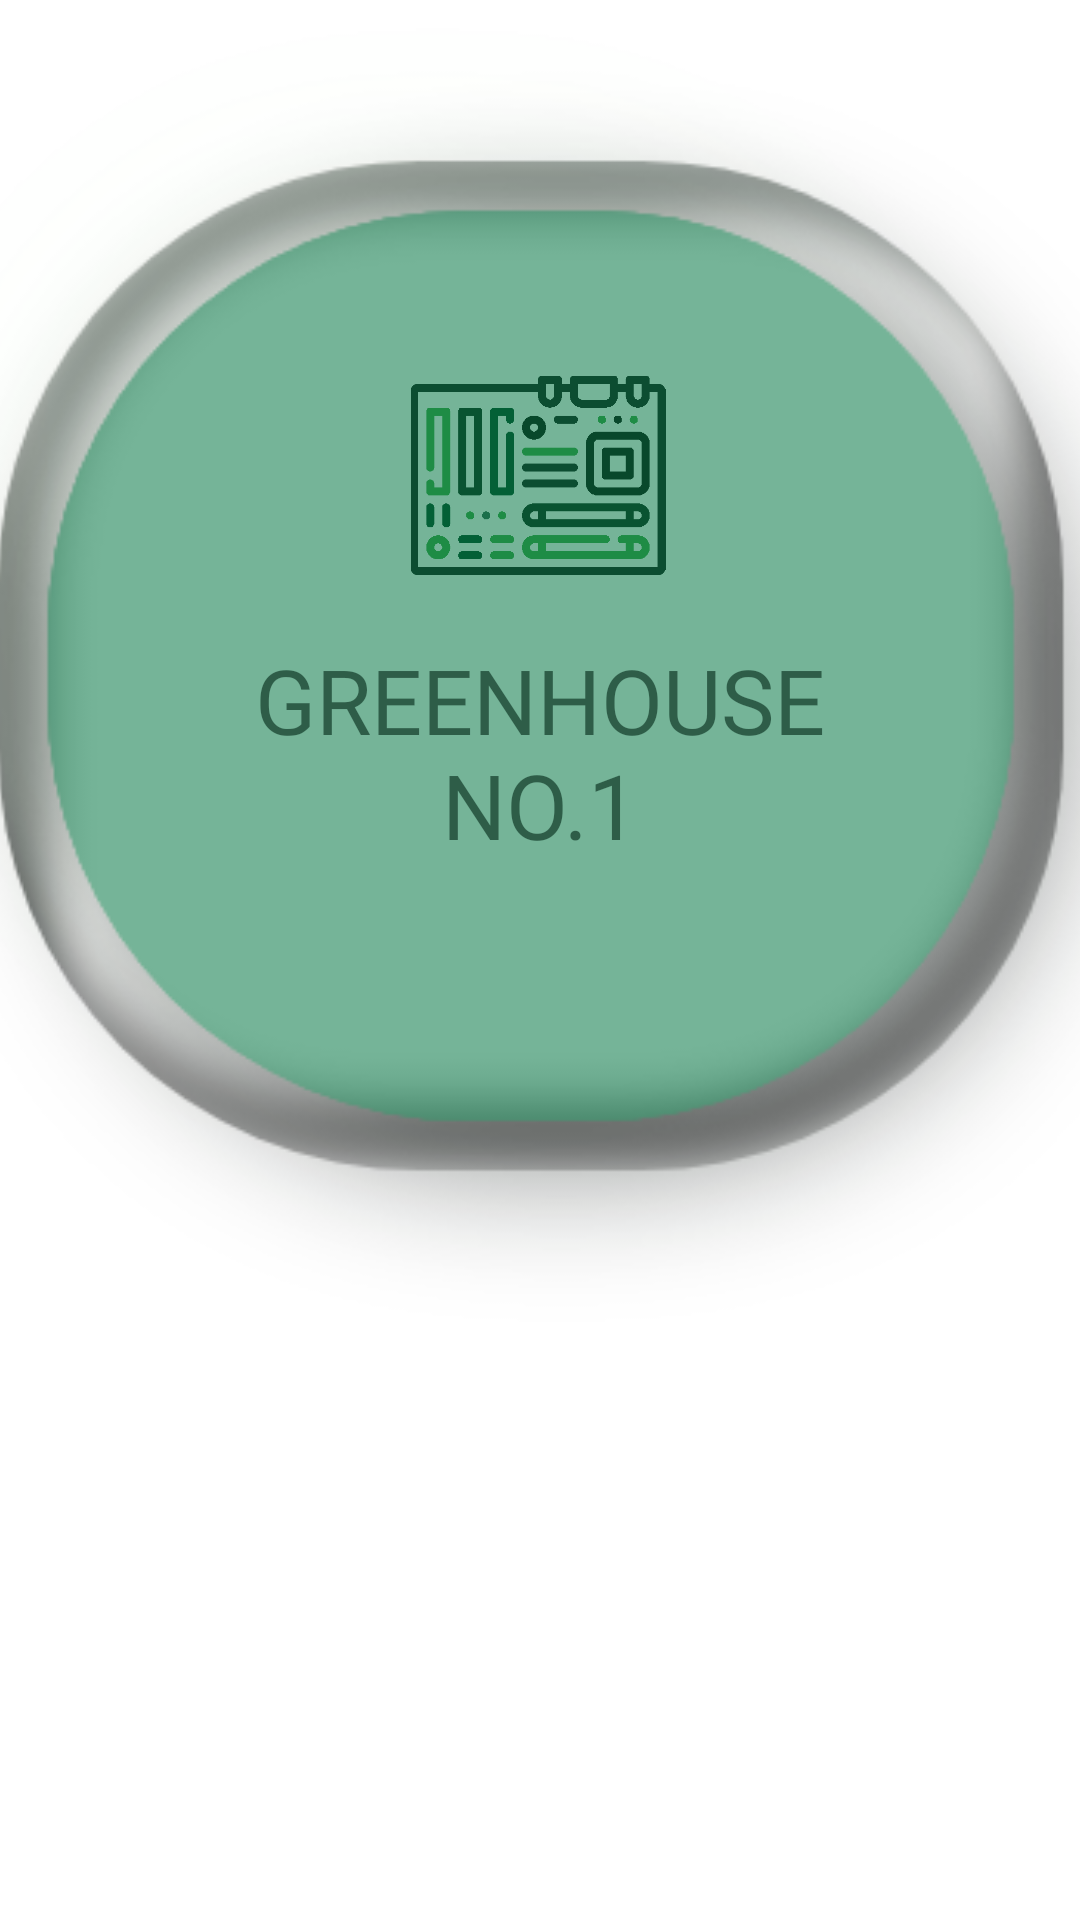

Named icons in this screenshot (1080×1920) and their centers, (x=x, y=y):
arduino: (x=538, y=475)
